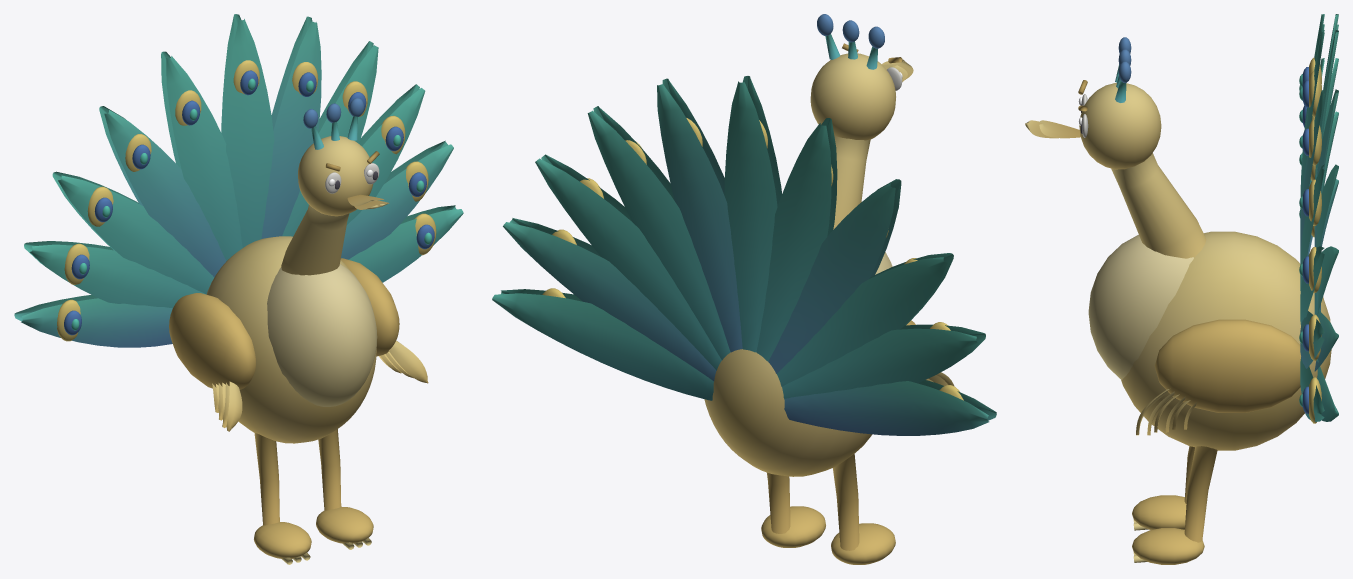
File: pronkpauw.glb
3 views of the same model, side by side, from view 1: azimuth 30°, elevation 25°; view 2: azimuth 150°, elevation 25°; view 3: azimuth 270°, elevation 25° (orthographic). The views are drawn at different scales.
Parts seen in each view (by area): view 1: opaque__045, opaque__044, opaque__020, opaque__016, opaque__012, opaque__024, opaque__008, opaque__063, opaque__004, opaque__000, opaque__047, opaque__036 (+11 smaller); view 2: opaque__044, opaque__020, opaque__024, opaque__016, opaque__028, opaque__040, opaque__032, opaque__012, opaque__000, opaque__036, opaque__008, opaque__004 (+6 smaller); view 3: opaque__044, opaque__067, opaque__045, opaque__046, opaque__047, opaque__077, opaque__076, opaque__072, opaque__028, opaque__024, opaque__032, opaque__020 (+6 smaller).
Part boxes in pixels (<box>): opaque__045: <box>267,263,377,406</box>; opaque__044: <box>206,236,376,443</box>; opaque__020: <box>221,14,274,247</box>; opaque__016: <box>161,51,242,260</box>; opaque__012: <box>99,106,226,277</box>; opaque__024: <box>261,16,321,238</box>; opaque__008: <box>52,171,214,294</box>; opaque__063: <box>169,293,255,389</box>; opaque__004: <box>24,241,205,308</box>; opaque__000: <box>14,295,172,347</box>; opaque__047: <box>298,136,373,216</box>; opaque__036: <box>341,140,453,259</box>; opaque__044: <box>704,349,872,476</box>; opaque__020: <box>724,76,781,352</box>; opaque__024: <box>657,78,742,352</box>; opaque__016: <box>756,118,837,361</box>; opaque__028: <box>587,106,730,360</box>; opaque__040: <box>492,289,713,400</box>; opaque__032: <box>535,154,721,370</box>; opaque__012: <box>768,179,901,373</box>; opaque__000: <box>784,380,996,435</box>; opaque__036: <box>503,218,716,381</box>; opaque__008: <box>777,253,953,386</box>; opaque__004: <box>782,324,985,398</box>; opaque__044: <box>1121,231,1331,450</box>; opaque__067: <box>1154,319,1309,412</box>; opaque__045: <box>1088,234,1193,379</box>; opaque__046: <box>1111,153,1206,258</box>; opaque__047: <box>1079,83,1161,169</box>; opaque__077: <box>1132,528,1204,564</box>; opaque__076: <box>1184,446,1217,542</box>; opaque__072: <box>1132,495,1186,529</box>; opaque__028: <box>1300,164,1338,311</box>; opaque__024: <box>1300,89,1338,310</box>; opaque__032: <box>1300,246,1338,325</box>; opaque__020: <box>1300,30,1338,237</box>.
Size of the model in its own units: 1.07 by 1.1 by 0.6103.
